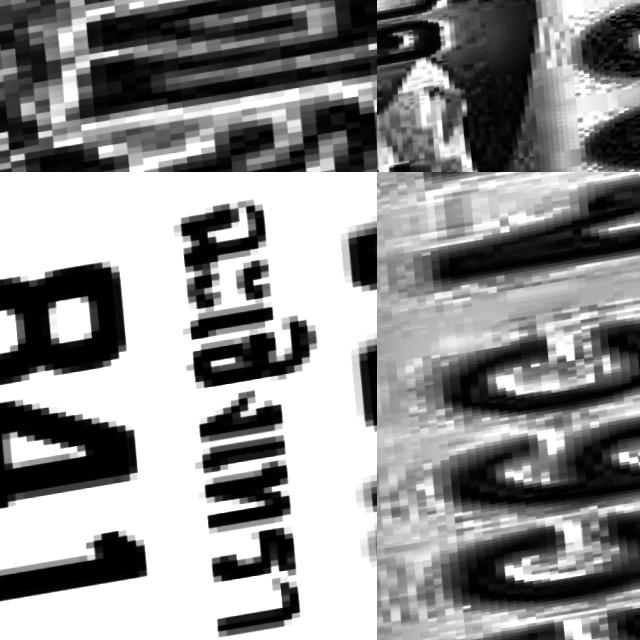license-plate: (0, 172, 377, 640), (377, 172, 640, 640), (0, 0, 377, 172), (377, 0, 640, 172)
